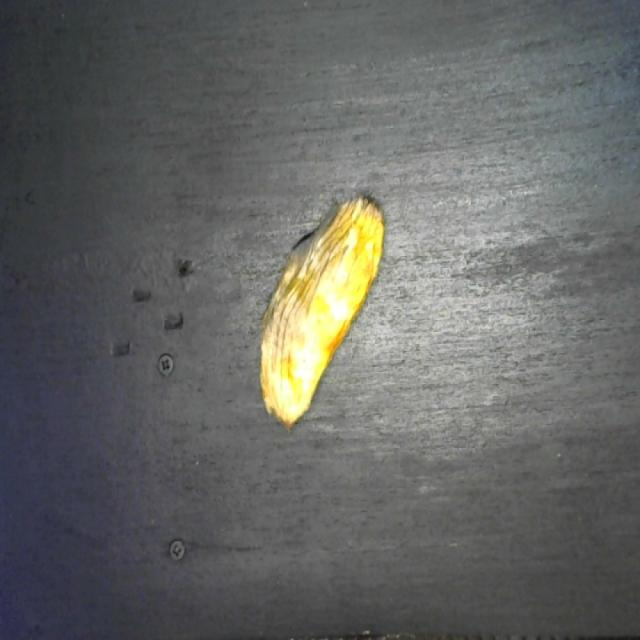biodegradable: (254, 179, 384, 442)
